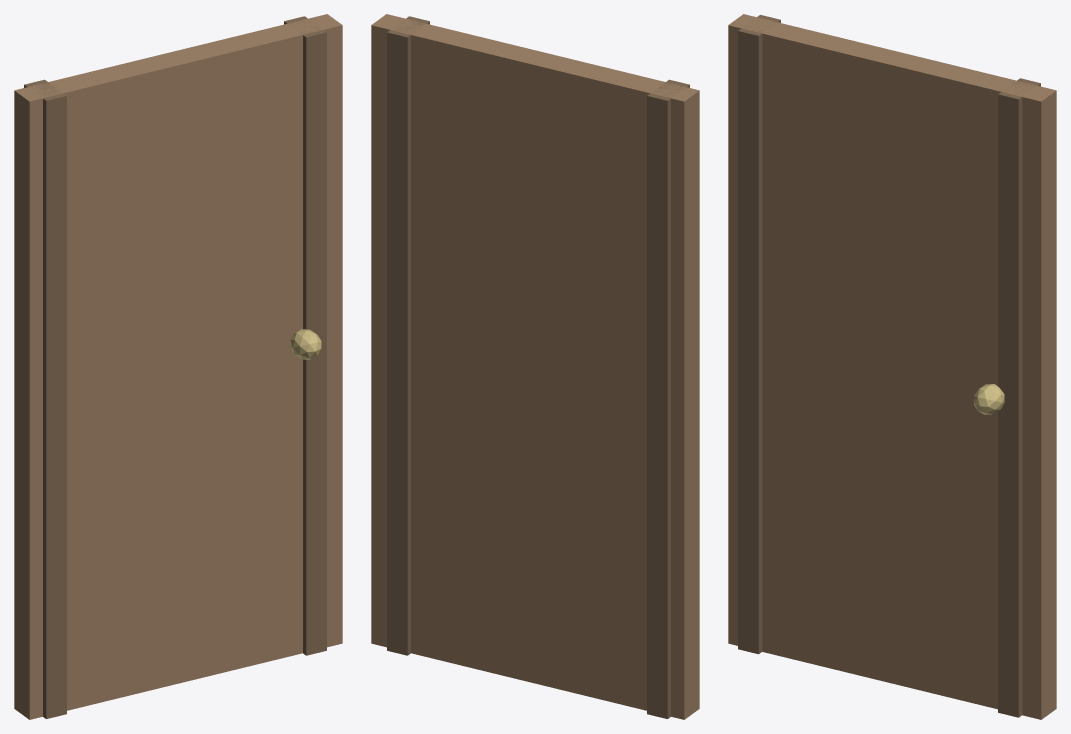
Rendered from door_wood.glb.
3 renders of one model, left to right at view 1: azimuth 30°, elevation 25°; view 2: azimuth 150°, elevation 25°; view 3: azimuth 330°, elevation 25°, orthographic.
Visible parts, largest first — view 1: part_0, part_1, part_2, part_3; view 2: part_0, part_1, part_2; view 3: part_0, part_1, part_2, part_3.
Boxes of the visible parts, left/top/right/bottom form: part_0: left=14, top=14, right=342, bottom=719; part_1: left=24, top=79, right=66, bottom=718; part_2: left=284, top=16, right=326, bottom=655; part_3: left=290, top=329, right=321, bottom=359; part_0: left=371, top=14, right=699, bottom=719; part_1: left=647, top=79, right=689, bottom=718; part_2: left=387, top=16, right=429, bottom=655; part_0: left=728, top=14, right=1056, bottom=719; part_1: left=738, top=15, right=780, bottom=654; part_2: left=998, top=78, right=1040, bottom=717; part_3: left=974, top=384, right=1004, bottom=414.
Bounding box in the file's own units: 1.06 × 2 × 0.21.
